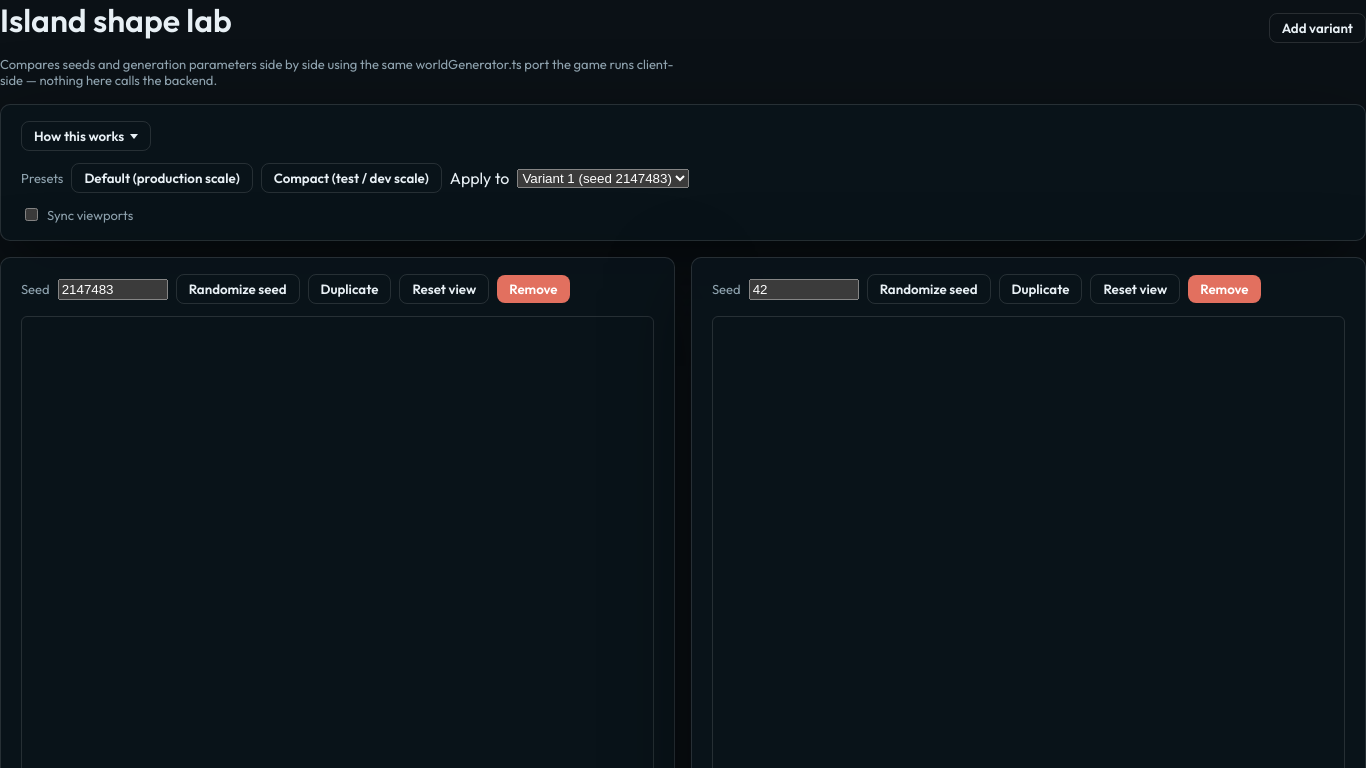
AdminIslandLabView › applying a preset with a single variant open needs no target selector
This screenshot has width=1366, height=768.
Click the 1st button with test id "remove-variant": (533, 289) [497,275,570,303]
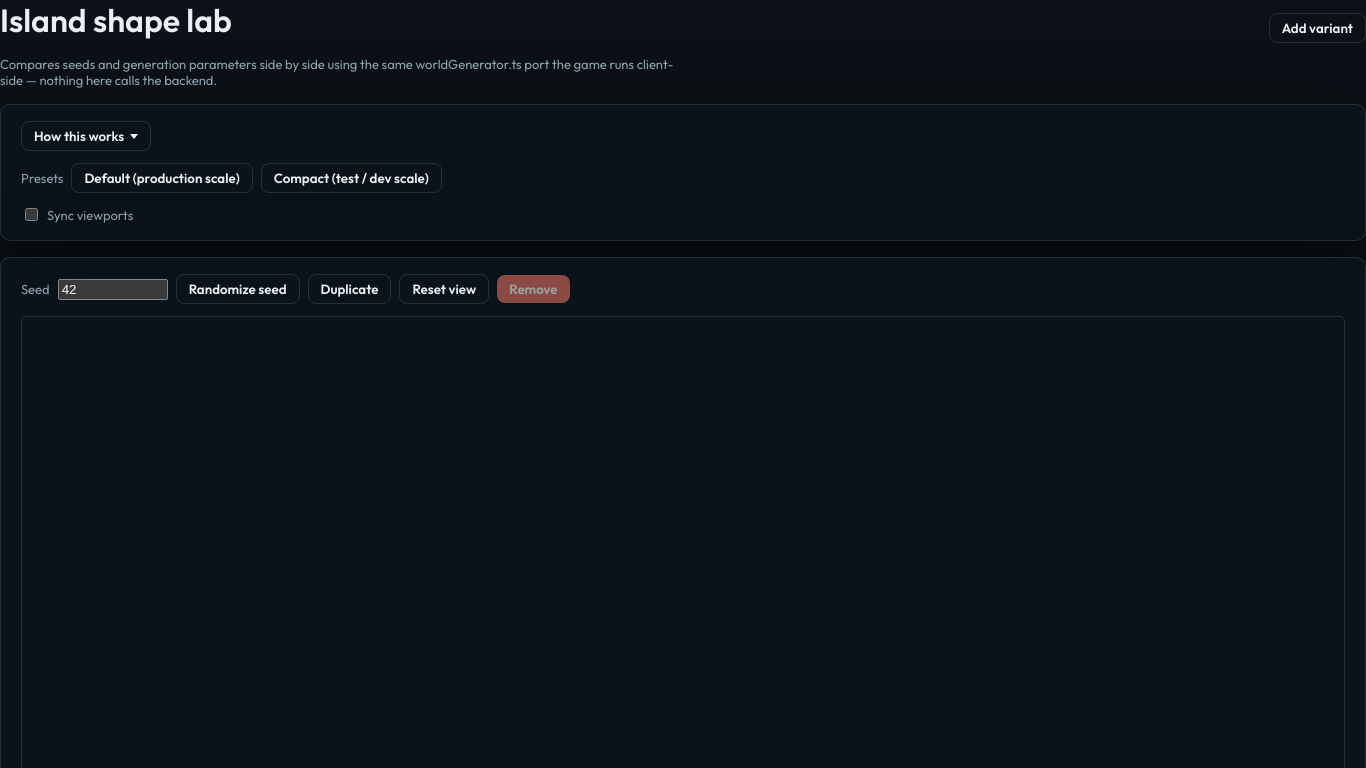
Click the button with test id "preset-compact": (351, 178) [261,163,442,193]
(page scrolled)
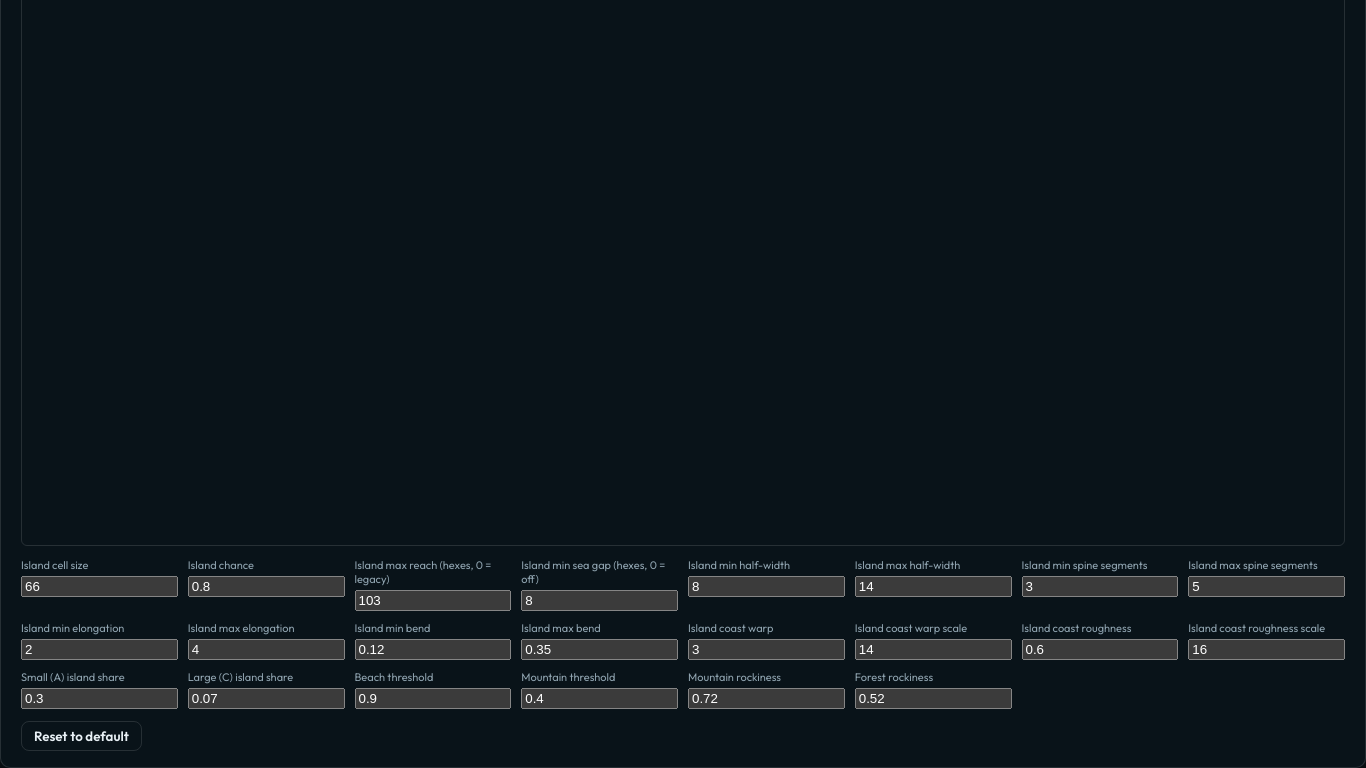
Check: the number field with test id "lab-gen-" holds "66", box [21,576,178,597]
